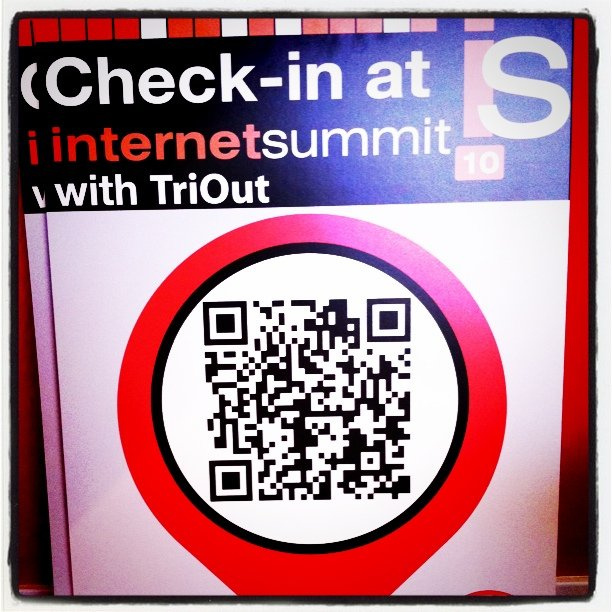QR-CODE: (203, 298, 410, 501)
